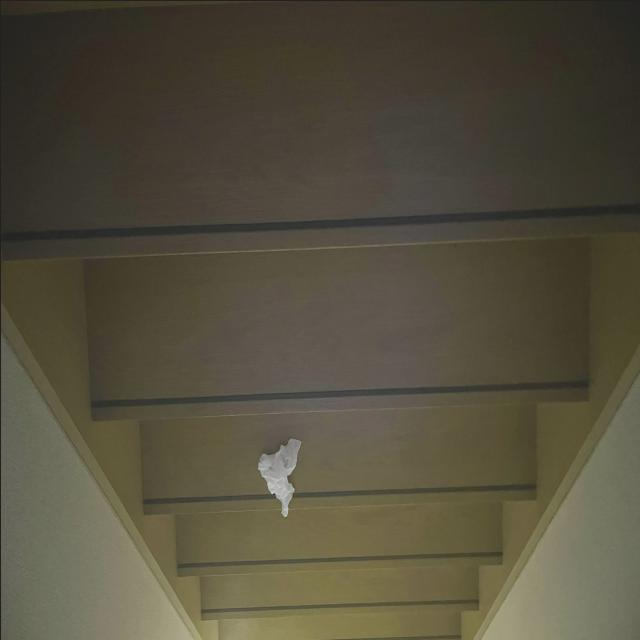Paper: (243, 434, 322, 528)
